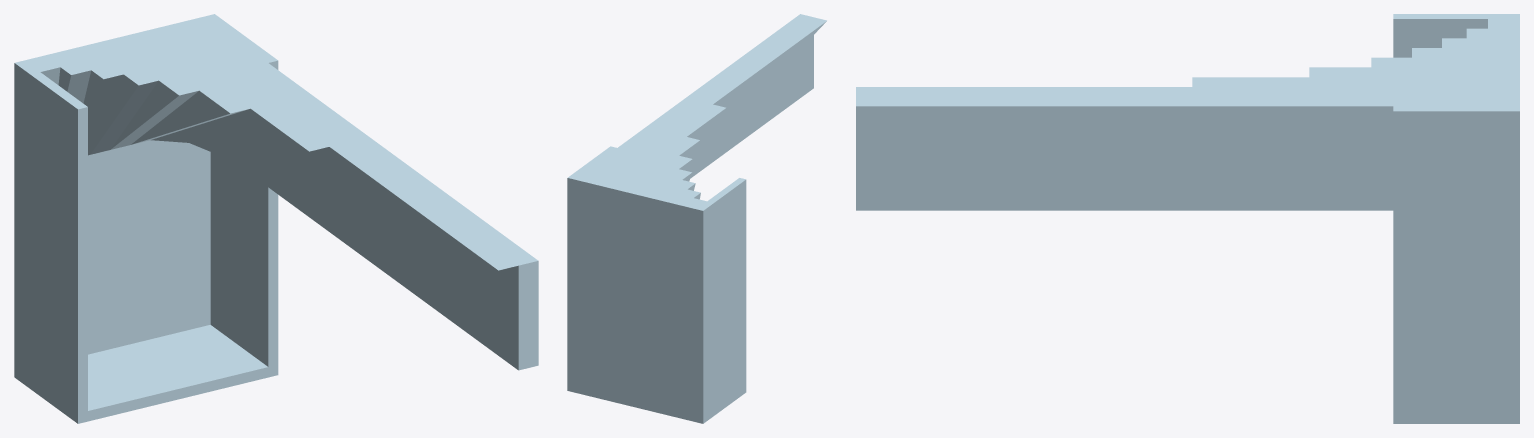
Rendered from map_2.gltf.
3 renders of one model, left to right at view 1: azimuth 30°, elevation 25°; view 2: azimuth 150°, elevation 25°; view 3: azimuth 270°, elevation 25°, orthographic. The views are drawn at different scales.
Visible parts, largest first — view 1: Part 1; view 2: Part 1; view 3: Part 1.
Boxes of the visible parts, x1,y1,x2,y2 form: Part 1: [14, 14, 538, 423]; Part 1: [567, 14, 826, 423]; Part 1: [856, 14, 1519, 423].
Bounding box in the file's own units: 2.54 × 3.81 × 7.33.
